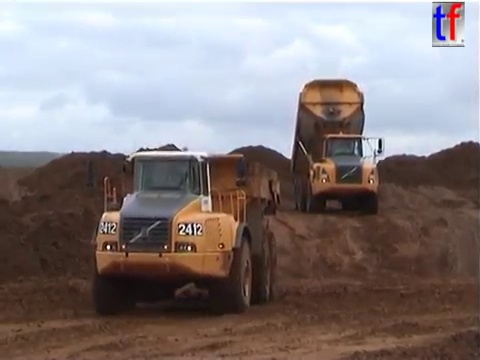truck: (84, 147, 285, 317), (288, 76, 386, 215)
